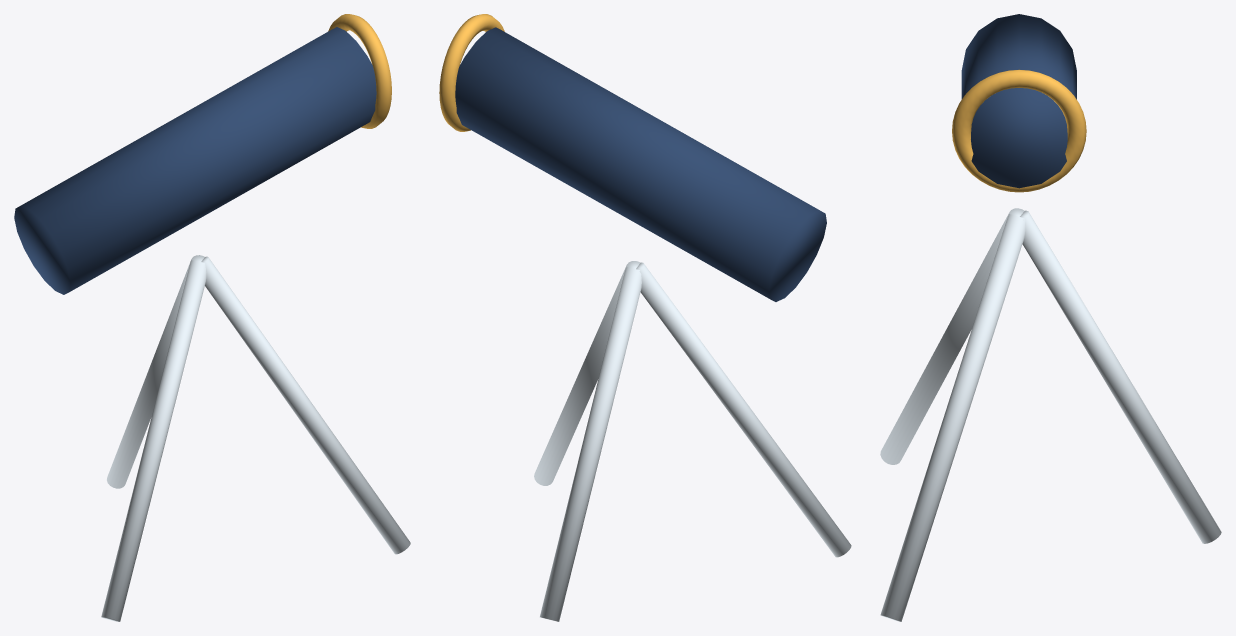
File: astronomical-telescope-lite.glb
3 renders of one model, left to right at view 1: azimuth 30°, elevation 25°; view 2: azimuth 150°, elevation 25°; view 3: azimuth 270°, elevation 25°, orthographic. The views are drawn at different scales.
Parts seen in each view (by area): view 1: Tube; view 2: Tube; view 3: Tube.
Boxes of the visible parts, x1,y1,x2,y2 form: Tube: [14, 14, 410, 621]; Tube: [439, 14, 851, 621]; Tube: [880, 14, 1221, 621].
Bounding box in the file's own units: 1.41 × 1.93 × 1.06.
